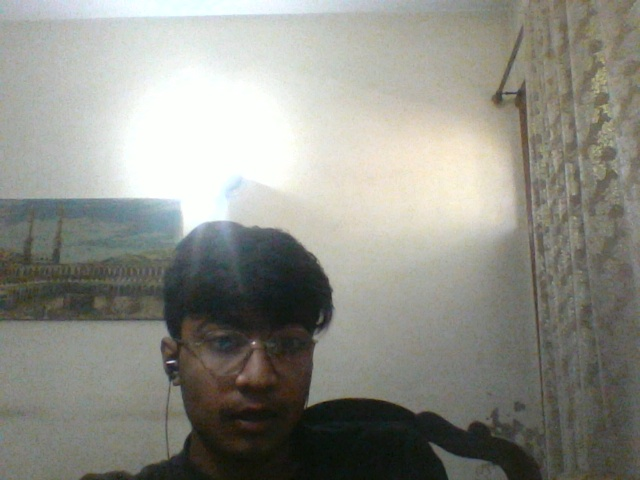surprised: (179, 306, 316, 455)
